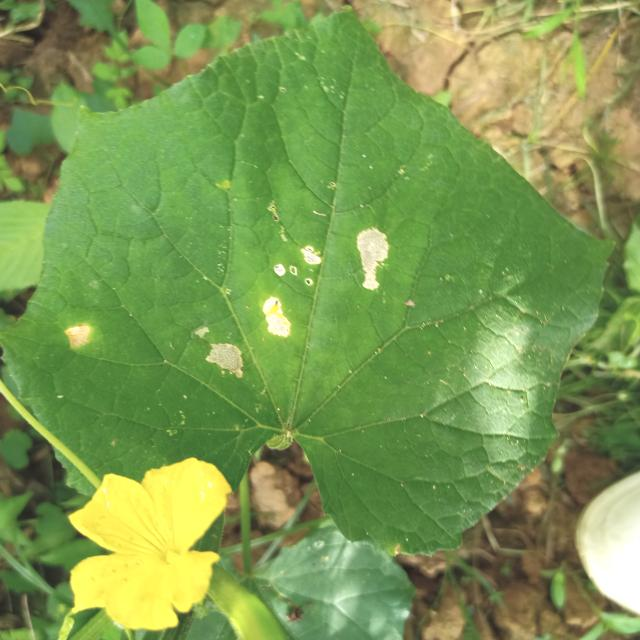disease_cucumber: (193, 225, 390, 378), (66, 322, 90, 351)
